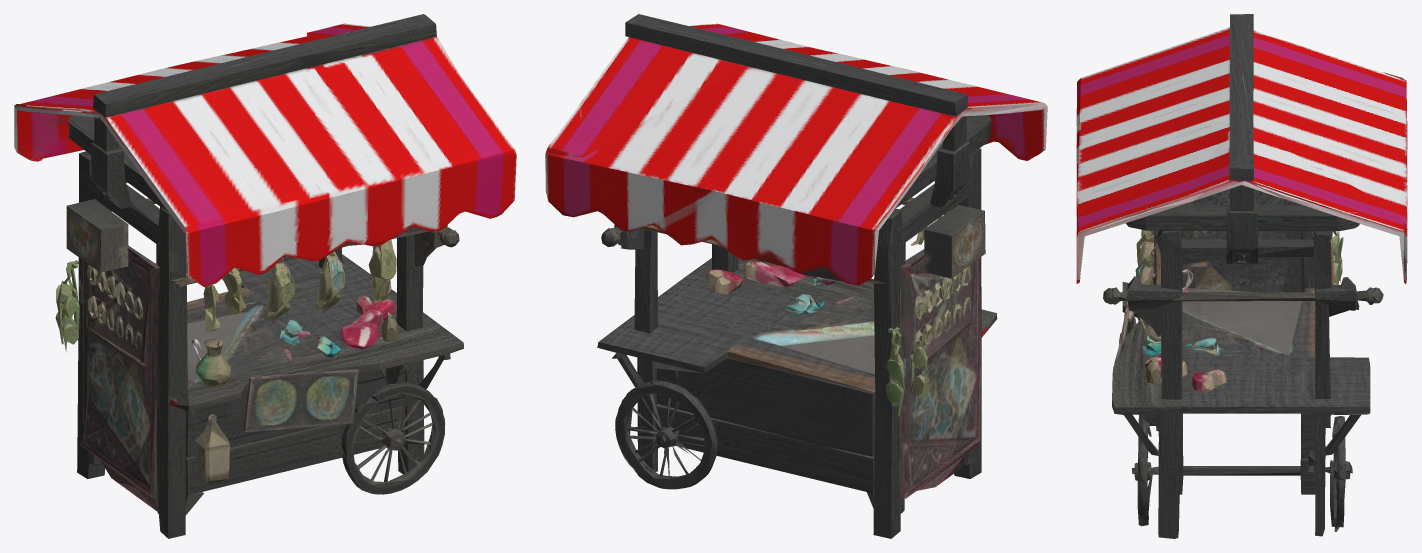
3 views of the same model, side by side, from view 1: azimuth 30°, elevation 25°; view 2: azimuth 150°, elevation 25°; view 3: azimuth 270°, elevation 25° (orthographic). The views are drawn at different scales.
Bounding box in the file's own units: 1.65 × 1.9 × 1.44.
1 material, 1 textured.
